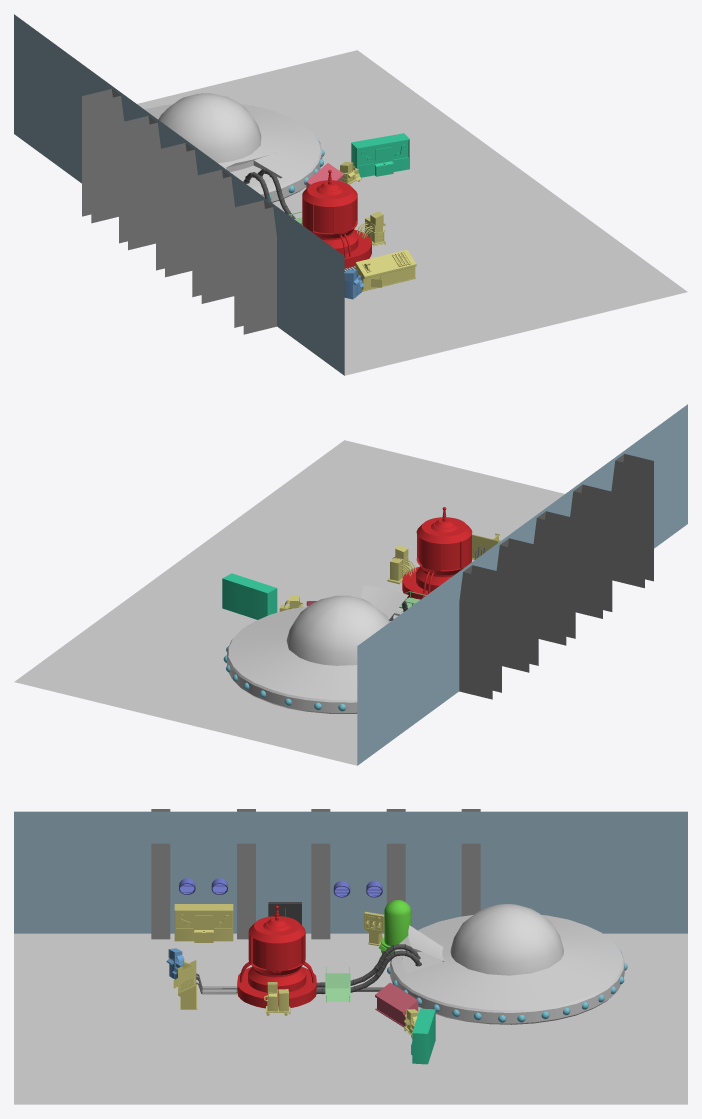
Rendered from Sala (1).fbx.
3 views of the same model, one above another, from view 1: azimuth 30°, elevation 25°; view 2: azimuth 150°, elevation 25°; view 3: azimuth 270°, elevation 25° (orthographic).
Parts seen in each view (by area): view 1: Chao, Pilastras, Paredes, Nave, Reator, Gravador, Task-DoublePainel, Task-Monitor; view 2: Chao, Pilastras, Paredes, Nave, Reator, Gravador, Task-Monitor; view 3: Chao, Paredes, Nave, Pilastras, Reator, Task-Gravador, Capsula, Gravador, Painel, Dutos, Task-DoublePainel, Rampa (+4 smaller).
Boxes of the visible parts, bbox=[...] form: Chao: bbox=[137, 50, 687, 375]; Pilastras: bbox=[82, 89, 276, 334]; Paredes: bbox=[14, 14, 344, 375]; Nave: bbox=[144, 93, 324, 218]; Reator: bbox=[302, 170, 371, 268]; Gravador: bbox=[351, 133, 409, 177]; Task-DoublePainel: bbox=[355, 249, 416, 291]; Task-Monitor: bbox=[356, 211, 385, 246]; Chao: bbox=[14, 440, 564, 765]; Pilastras: bbox=[459, 454, 653, 699]; Paredes: bbox=[357, 404, 687, 765]; Nave: bbox=[223, 585, 419, 713]; Reator: bbox=[402, 507, 472, 599]; Gravador: bbox=[222, 573, 277, 619]; Task-Monitor: bbox=[387, 545, 416, 584]; Chao: bbox=[14, 933, 687, 1104]; Paredes: bbox=[14, 811, 687, 933]; Nave: bbox=[316, 904, 627, 1024]; Pilastras: bbox=[151, 809, 480, 939]; Reator: bbox=[237, 905, 316, 1008]; Task-Gravador: bbox=[174, 904, 233, 942]; Capsula: bbox=[378, 900, 411, 956]; Gravador: bbox=[411, 1008, 435, 1064]; Painel: bbox=[375, 982, 418, 1027]; Dutos: bbox=[179, 878, 382, 897]; Task-DoublePainel: bbox=[173, 960, 197, 1009]; Rampa: bbox=[325, 966, 350, 1002].
Size of the model in its own units: 2635 by 816 by 4000.
